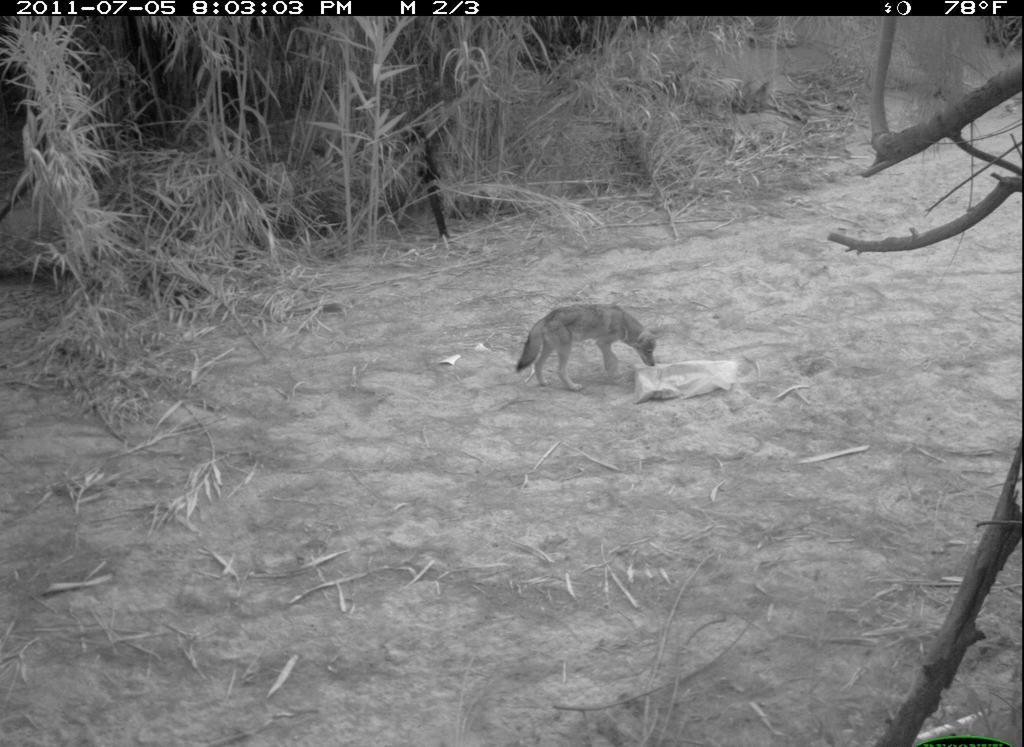coyote: (511, 299, 662, 396)
